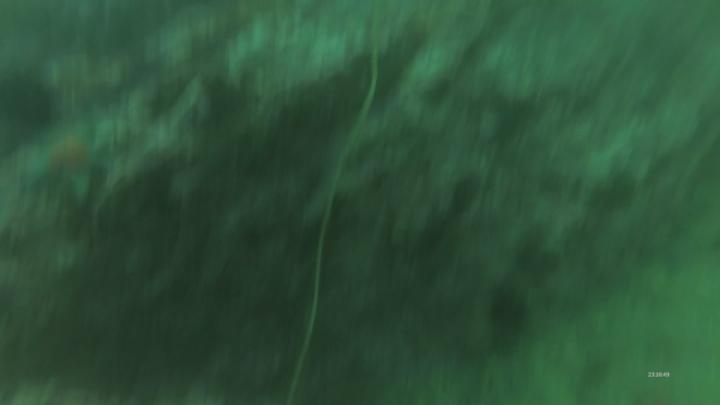starfish: (24, 128, 117, 212)
